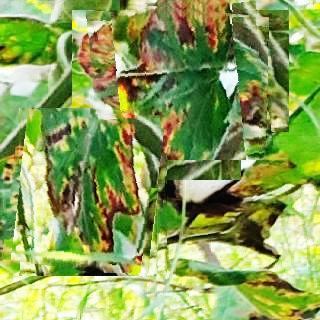blight: (90, 0, 269, 160), (7, 112, 167, 273)
